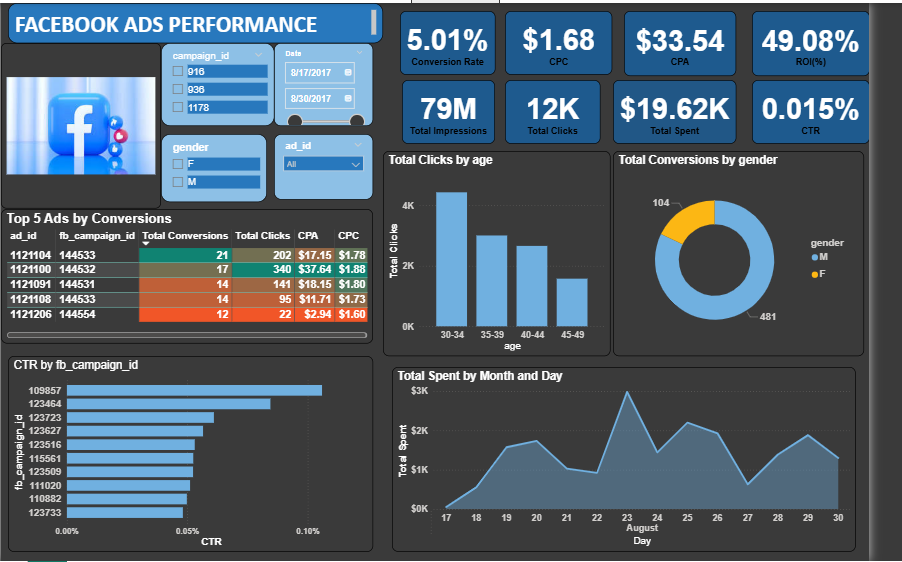

This screenshot's page, from the dashboard's own definition file:
{"tool":"powerbi","page":{"name":"Page 1","canvas":[1400,900],"ordinal":0},"visuals":[{"type":"card","fields":{"Values":["data (2).Total Impressions"]},"box":[647,124.7,150,103],"z":0},{"type":"card","fields":{"Values":["data (2).Total Clicks"]},"box":[813.3,124.7,153.6,103],"z":1000},{"type":"card","fields":{"Values":["data (2).Conversion Rate"]},"box":[643.4,12.7,153.6,103],"z":2000},{"type":"card","fields":{"Values":["data (2).CTR"]},"box":[1210.8,124.7,189.8,103],"z":3000},{"type":"card","fields":{"Values":["data (2).CPC"]},"box":[813.3,12.7,173.5,103],"z":4000},{"type":"card","fields":{"Values":["data (2).CPA"]},"box":[1004.8,12.7,180.7,104.8],"z":5000},{"type":"card","fields":{"Values":["data (2).ROI(%)"]},"box":[1210.8,12.7,189.8,104.8],"z":6000},{"type":"clusteredColumnChart","fields":{"Category":["data (2).age"],"Y":["data (2).Total Clicks"]},"box":[616.3,238.6,366.9,330.7],"z":8001},{"type":"donutChart","fields":{"Category":["data (2).gender"],"Y":["data (2).Total Conversions"]},"box":[986.7,238.6,404.8,330.7],"z":8002},{"type":"slicer","fields":{"Values":["data (2).ad_id"]},"box":[440.3,211.3,159.7,106.5],"z":8004},{"type":"areaChart","fields":{"Category":["data (2).reporting_start.Variation.Date Hierarchy.Month","data (2).reporting_start.Variation.Date Hierarchy.Day"],"Y":["data (2).Total Spent"]},"box":[630.7,587.3,748.2,298.2],"z":8005},{"type":"card","fields":{"Values":["data (2).Total Spent"]},"box":[986.7,124.7,198.8,103],"z":8007},{"type":"textbox","box":[10.8,0,605.4,65.1],"z":8008},{"type":"tableEx","title":"Top 5 Ads by Conversions","fields":{"Values":["data (2).ad_id","data (2).fb_campaign_id","data (2).Total Conversions","data (2).Total Clicks","data (2).CPA","data (2).CPC"]},"box":[0,332.5,600,216.9],"z":8010},{"type":"clusteredBarChart","fields":{"Category":["data (2).fb_campaign_id"],"Y":["data (2).CTR"]},"box":[10.8,569.3,589.2,316.3],"z":8011},{"type":"slicer","fields":{"Values":["data (2).campaign_id"]},"box":[258.4,65.1,182.5,133.7],"z":8012},{"type":"slicer","title":"Date","fields":{"Values":["data (2).reporting_end"]},"box":[440.3,64.5,159.7,133.9],"z":8013},{"type":"slicer","fields":{"Values":["data (2).gender"]},"box":[258.1,211.3,171,109.7],"z":8014},{"type":"image","box":[0,65.1,258.4,267.5],"z":8015}]}

Visuals, with their boxes on the page's 1400x900 design canvas (x1, y1, x2, y2). These are canvas units, not pixel positions in the 902x562 screenshot, which may show the page scaled, cropped or inside an application window:
card - data (2).Total Impressions: select_region(647, 125, 797, 228)
card - data (2).Total Clicks: select_region(813, 125, 967, 228)
card - data (2).Conversion Rate: select_region(643, 13, 797, 116)
card - data (2).CTR: select_region(1211, 125, 1401, 228)
card - data (2).CPC: select_region(813, 13, 987, 116)
card - data (2).CPA: select_region(1005, 13, 1186, 118)
card - data (2).ROI(%): select_region(1211, 13, 1401, 118)
clusteredColumnChart - data (2).age x data (2).Total Clicks: select_region(616, 239, 983, 569)
donutChart - data (2).gender x data (2).Total Conversions: select_region(987, 239, 1392, 569)
slicer - data (2).ad_id: select_region(440, 211, 600, 318)
areaChart - data (2).reporting_start.Variation.Date Hierarchy.Month x data (2).reporting_start.Variation.Date Hierarchy.Day: select_region(631, 587, 1379, 886)
card - data (2).Total Spent: select_region(987, 125, 1186, 228)
textbox: select_region(11, 0, 616, 65)
"Top 5 Ads by Conversions" tableEx: select_region(0, 332, 600, 549)
clusteredBarChart - data (2).fb_campaign_id x data (2).CTR: select_region(11, 569, 600, 886)
slicer - data (2).campaign_id: select_region(258, 65, 441, 199)
"Date" slicer: select_region(440, 64, 600, 198)
slicer - data (2).gender: select_region(258, 211, 429, 321)
image: select_region(0, 65, 258, 333)
